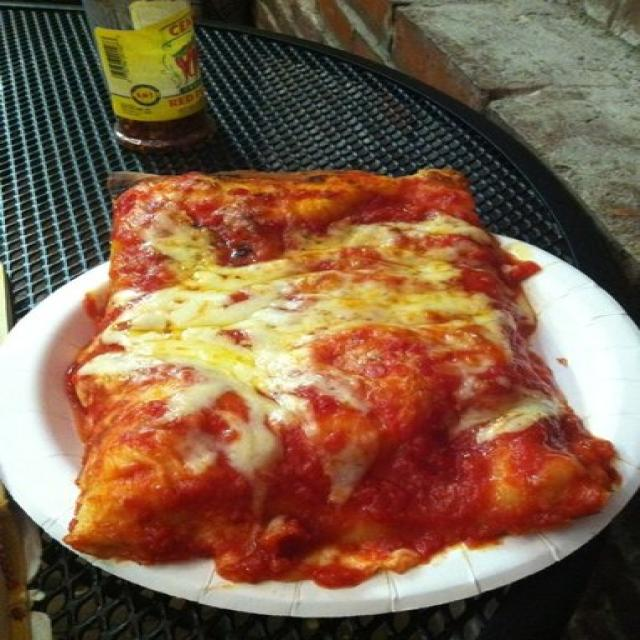Pizza: (65, 170, 618, 586)
